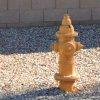a fire hydrant: (53, 13, 77, 85)
